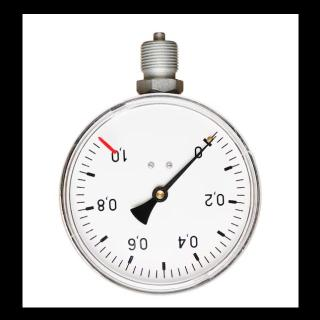gauge: (35, 79, 298, 307), (95, 133, 132, 169), (192, 128, 222, 158), (151, 185, 169, 203), (208, 130, 220, 142)
